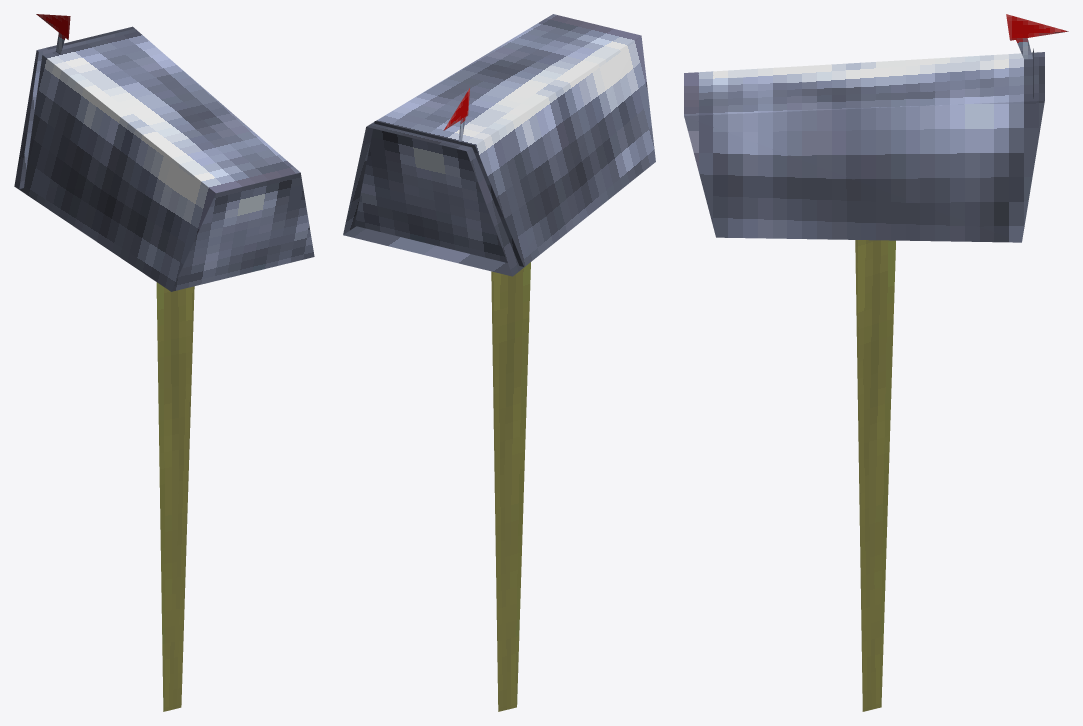
File: Mailbox.FBX
3 views of the same model, side by side, from view 1: azimuth 30°, elevation 25°; view 2: azimuth 150°, elevation 25°; view 3: azimuth 270°, elevation 25° (orthographic). The views are drawn at different scales.
Visible parts, largest first — view 1: Mailbox, Mailbox Lid; view 2: Mailbox, Mailbox Lid; view 3: Mailbox.
Boxes of the visible parts, x1,y1,x2,y2 form: Mailbox: [14, 14, 314, 711]; Mailbox Lid: [19, 28, 136, 188]; Mailbox: [343, 14, 655, 711]; Mailbox Lid: [354, 121, 523, 266]; Mailbox: [684, 14, 1068, 711].
Bounding box in the file's own units: 62.54 × 235 × 121.
